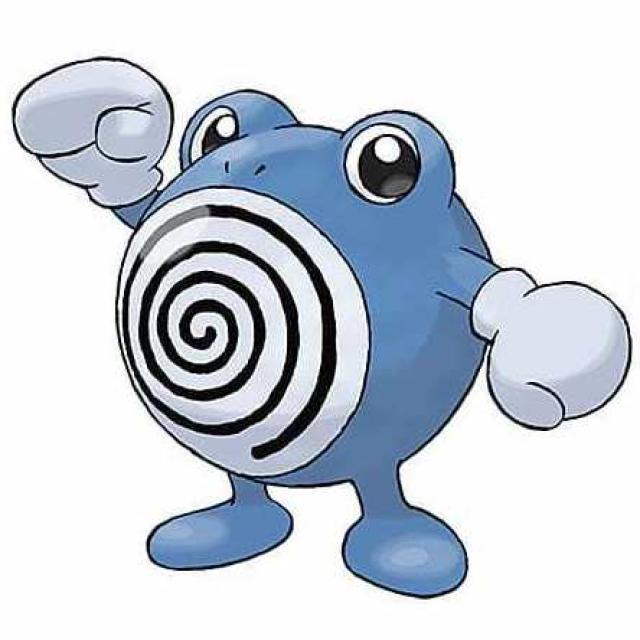Poliwhirl: (72, 76, 580, 556)
